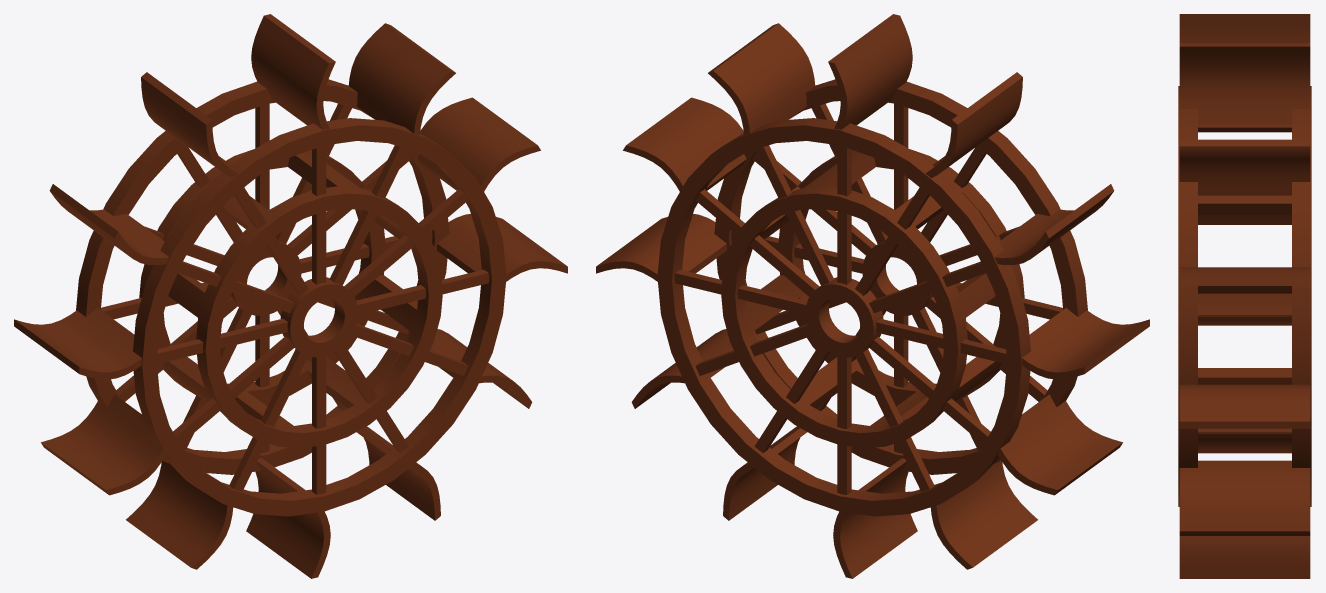
Rendered from turbine wheel.fbx.
3 views of the same model, side by side, from view 1: azimuth 30°, elevation 25°; view 2: azimuth 150°, elevation 25°; view 3: azimuth 270°, elevation 25° (orthographic).
Visible parts, largest first — view 1: wheel; view 2: wheel; view 3: wheel.
Boxes of the visible parts, x1,y1,x2,y2 form: wheel: (14, 14, 567, 578); wheel: (596, 14, 1149, 578); wheel: (1178, 14, 1311, 578).
Bounding box in the file's own units: 496 × 496 × 117.
